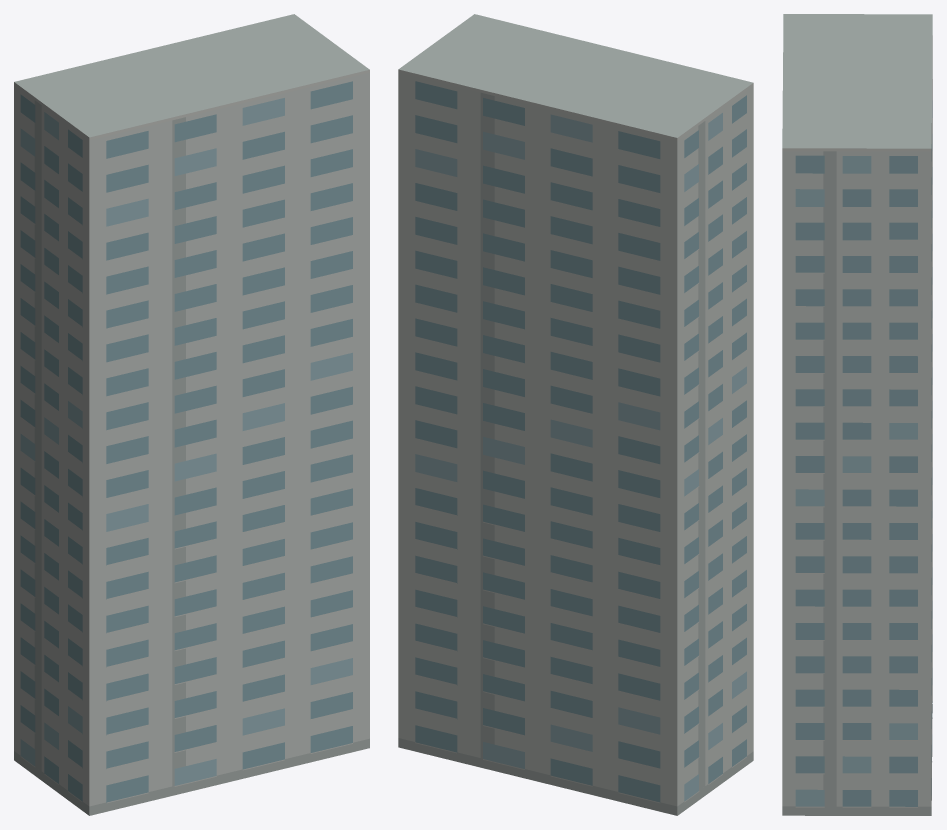
The model's file is residential-77fdb854-902a-4991-9f7b-d6fc1d3d6d57.glb.
3 views of the same model, side by side, from view 1: azimuth 30°, elevation 25°; view 2: azimuth 150°, elevation 25°; view 3: azimuth 270°, elevation 25° (orthographic).
Parts seen in each view (by area): view 1: residential-77fdb854-902a-4991-9f7b-d6fc1d3d6d57.tmp; view 2: residential-77fdb854-902a-4991-9f7b-d6fc1d3d6d57.tmp; view 3: residential-77fdb854-902a-4991-9f7b-d6fc1d3d6d57.tmp.
Boxes of the visible parts, box(x1,y1,x2,y2) form: residential-77fdb854-902a-4991-9f7b-d6fc1d3d6d57.tmp: box(14, 14, 369, 815); residential-77fdb854-902a-4991-9f7b-d6fc1d3d6d57.tmp: box(398, 14, 753, 815); residential-77fdb854-902a-4991-9f7b-d6fc1d3d6d57.tmp: box(782, 14, 932, 815).
Bounding box in the file's own units: 24.23 × 56 × 11.45.
